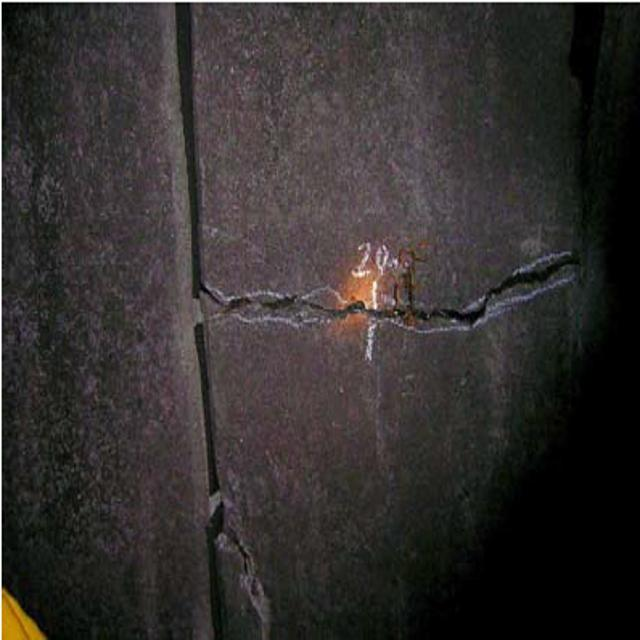crack: (195, 251, 586, 333), (189, 471, 277, 640)
